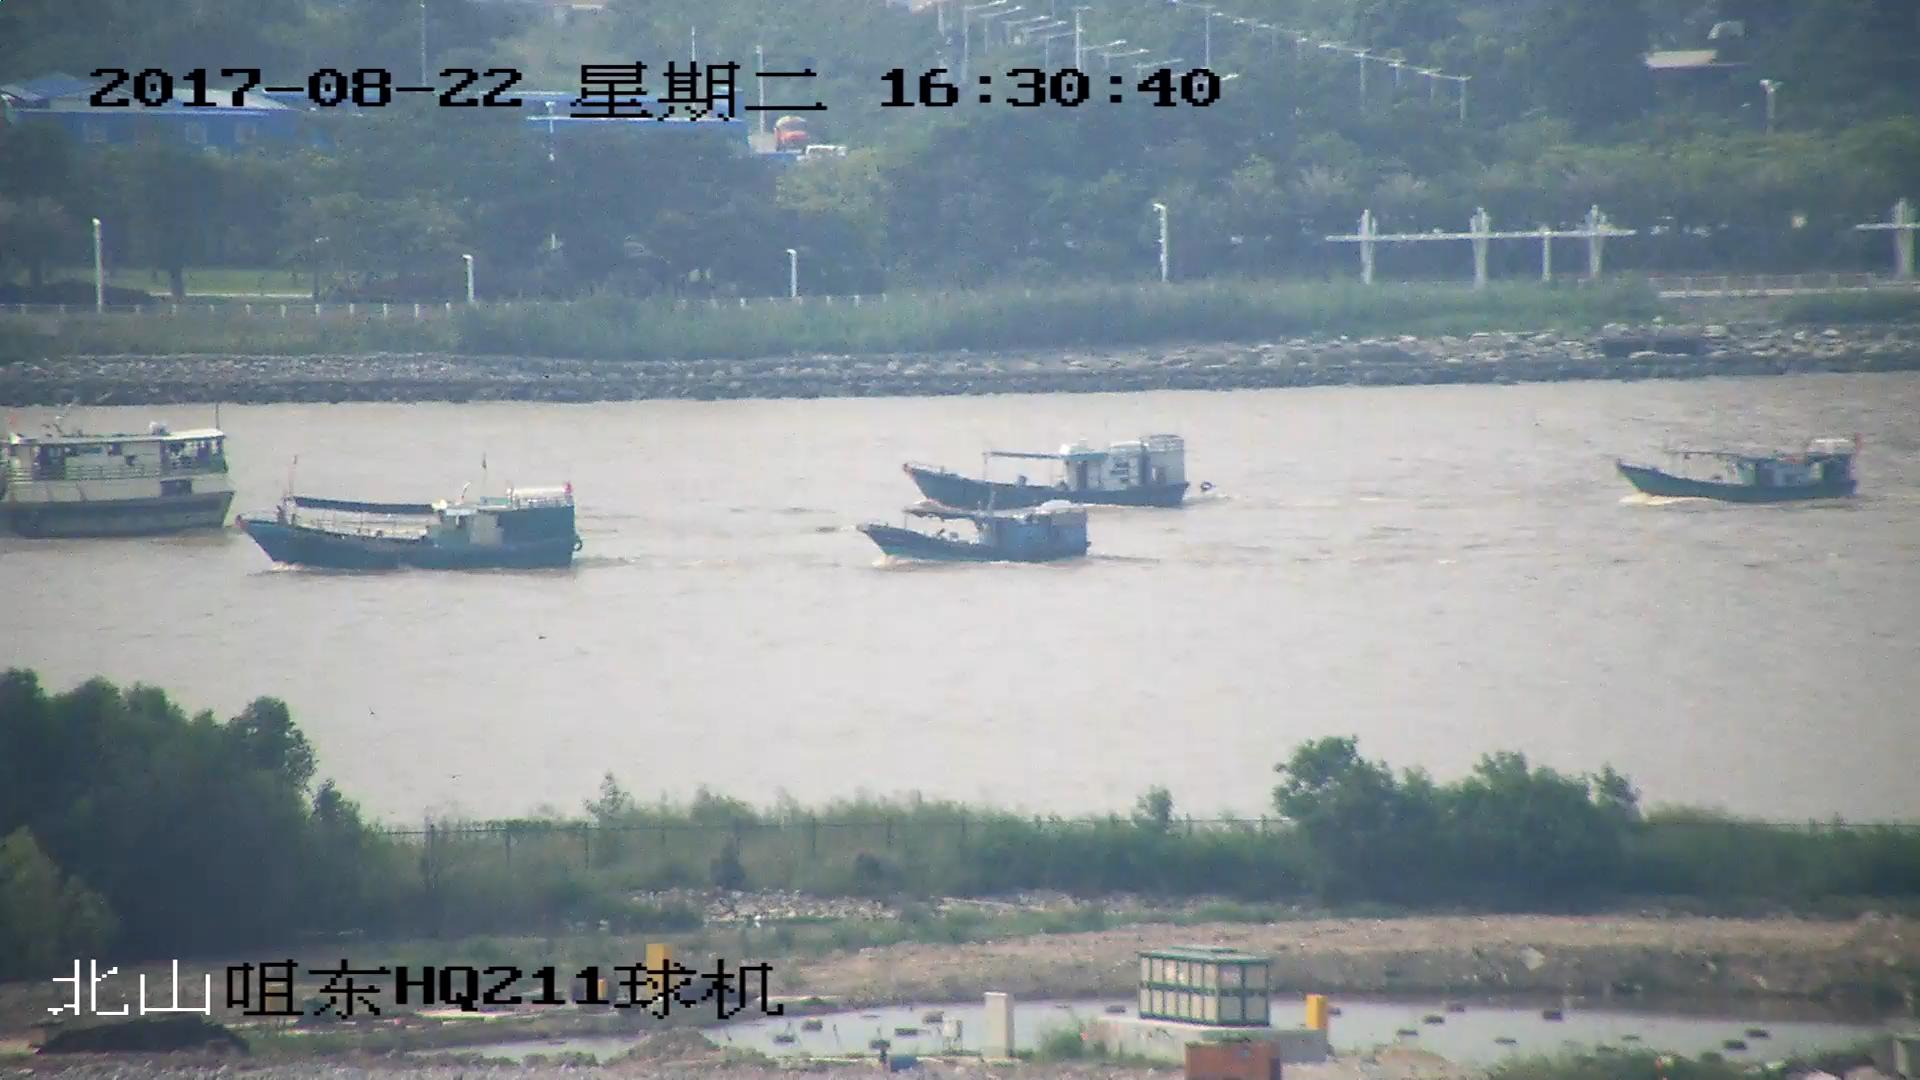fishing boat: (236, 458, 576, 574), (1, 424, 240, 533), (908, 435, 1191, 507), (861, 493, 1089, 565), (1619, 439, 1855, 503)
